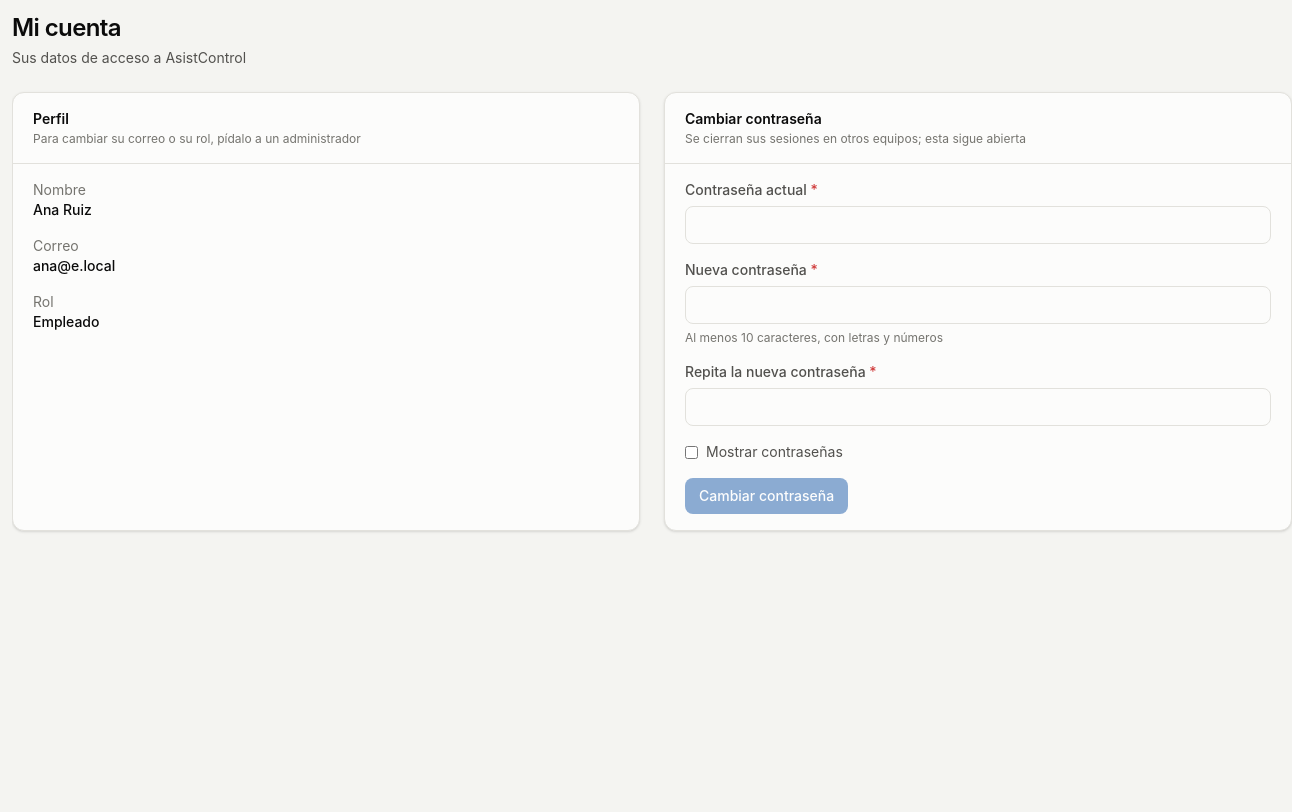
it: AccountPage › changes the password and clears the form
expect the button "Cambiar contraseña" is disabled: met, box x1=685 y1=478 x2=848 y2=514
Step 1. Type "Clave-Actual-2026" into the password field labelled "Contraseña actual" → (978, 225), box x1=685 y1=206 x2=1271 y2=244
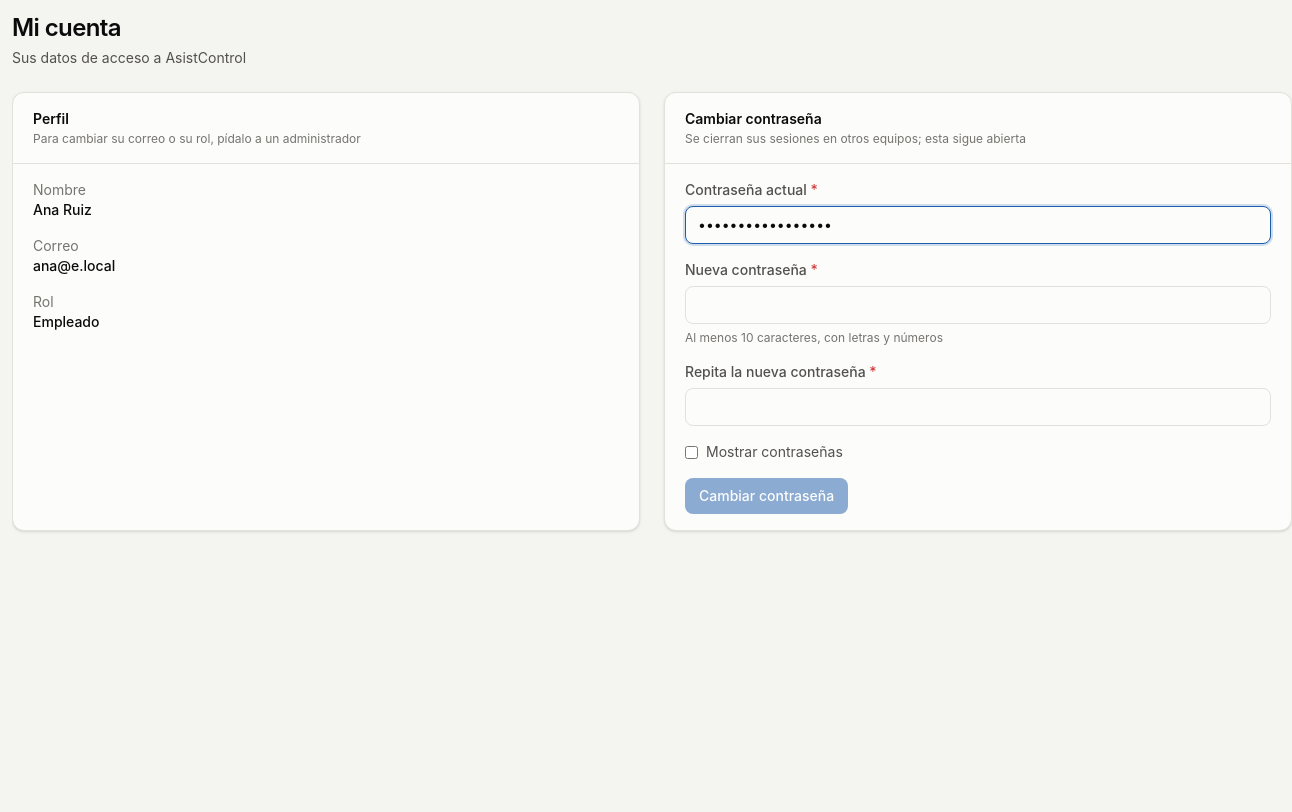
Step 2. Type "Clave-Nueva-2026" into the password field labelled "Nueva contraseña" → (978, 305), box x1=685 y1=286 x2=1271 y2=324
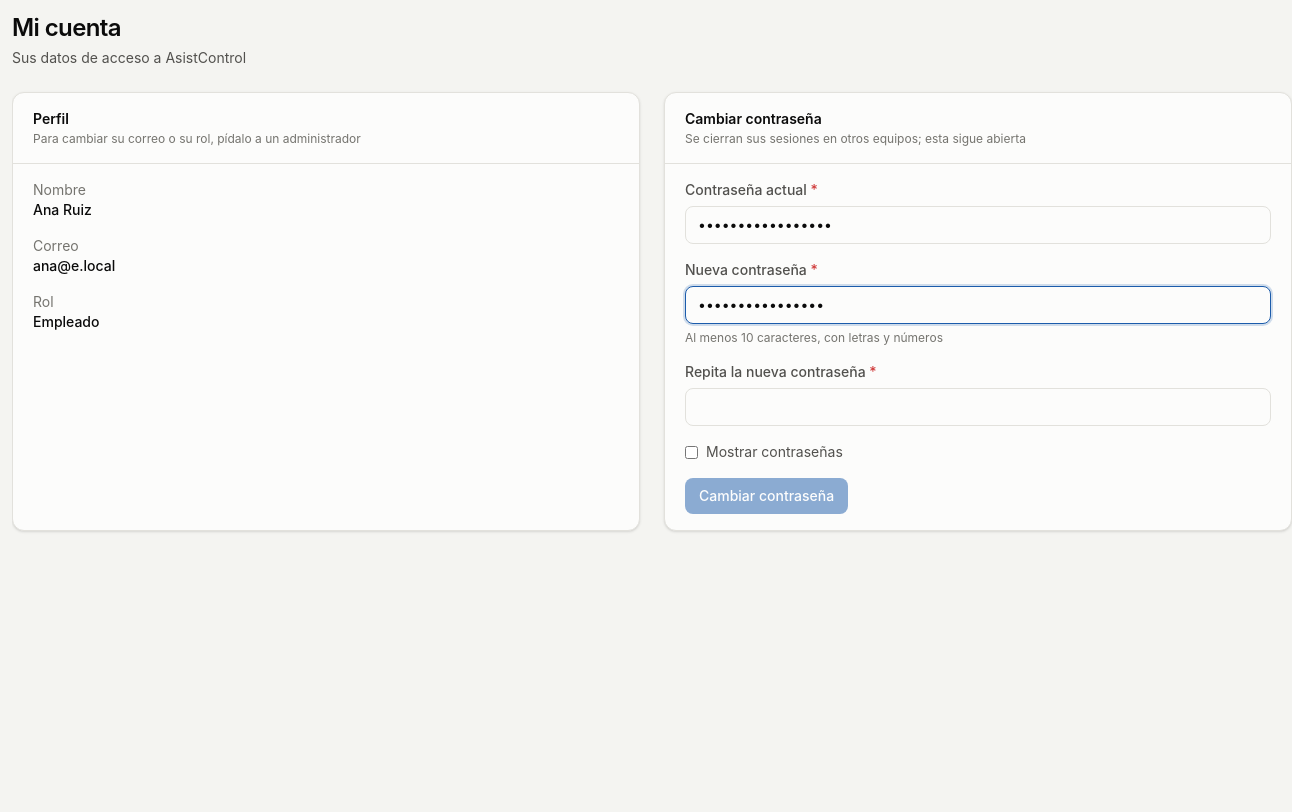
Step 3. Type "Clave-Nueva-2026" into the password field labelled "Repita la nueva contraseña" → (978, 407), box x1=685 y1=388 x2=1271 y2=426
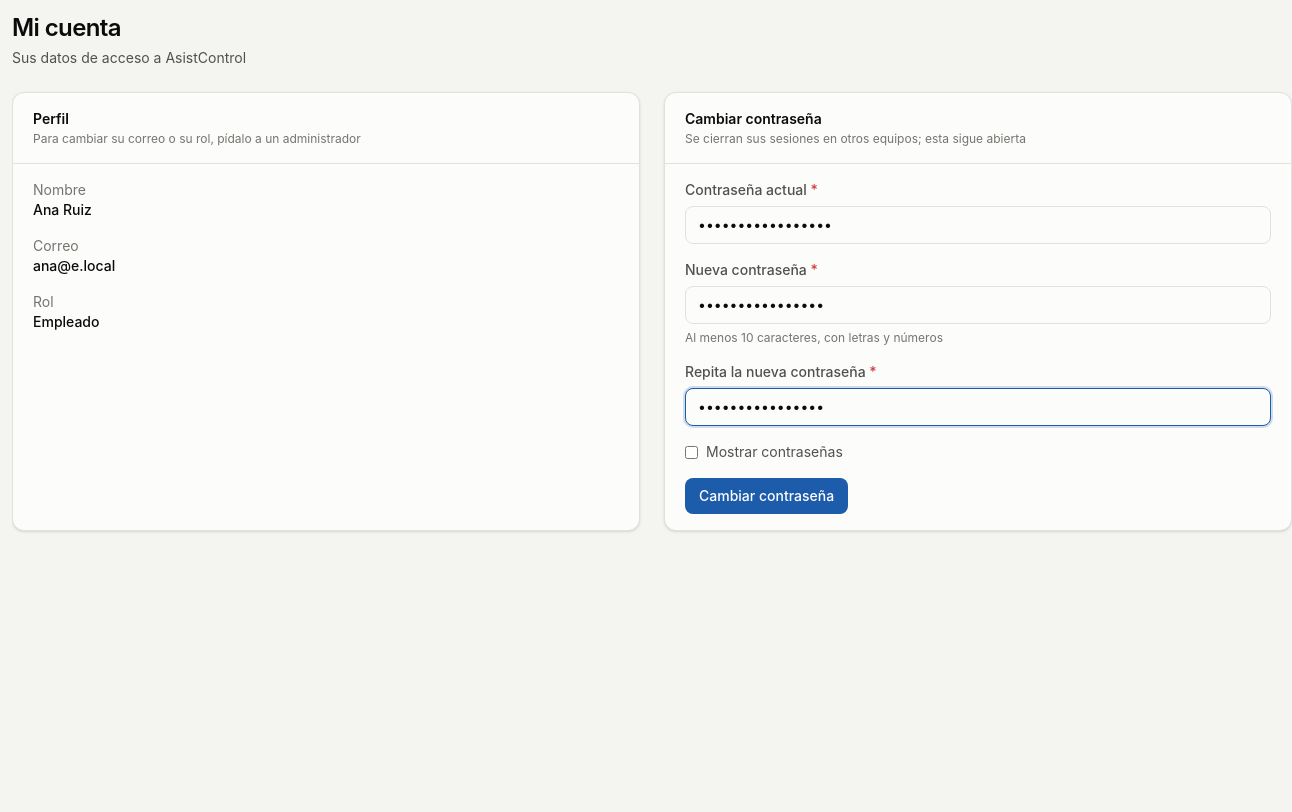
Step 4. Click the button "Cambiar contraseña" → click(767, 496), box x1=685 y1=478 x2=848 y2=514
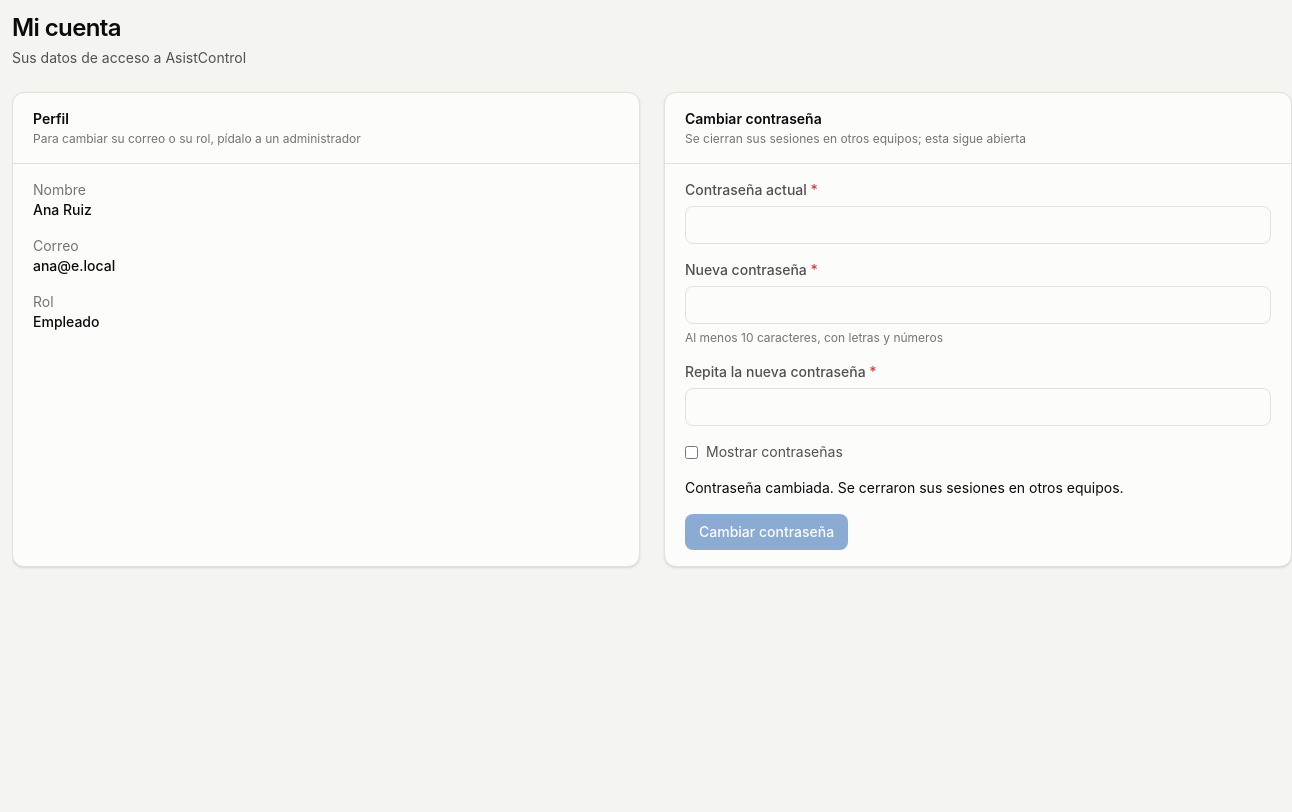
expect the message shows "Contraseña cambiada": met, box x1=685 y1=479 x2=1124 y2=496
expect the password field labelled "Contraseña actual" is empty: met, box x1=685 y1=206 x2=1271 y2=244
